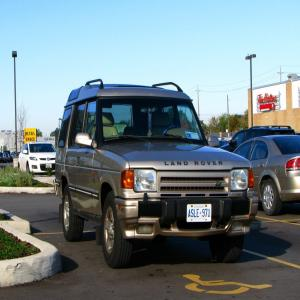Vehicle-registration-plate: (185, 206, 216, 234), (47, 165, 53, 170)
